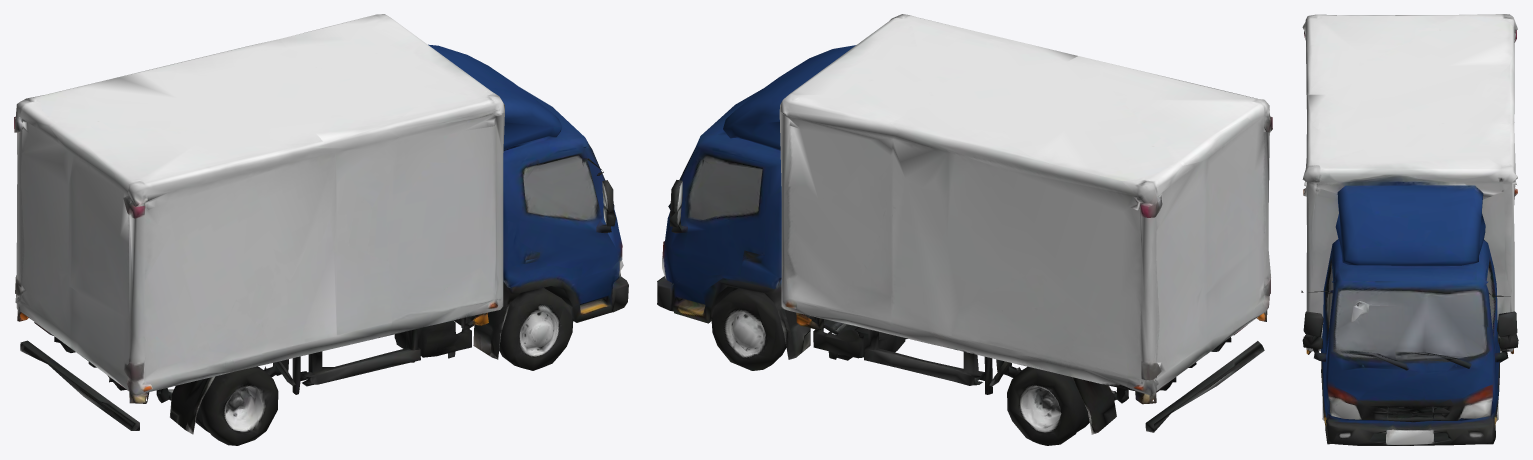
Rendered from box_truck.glb.
3 views of the same model, side by side, from view 1: azimuth 30°, elevation 25°; view 2: azimuth 150°, elevation 25°; view 3: azimuth 270°, elevation 25° (orthographic). The views are drawn at different scales.
Visible parts, largest first — view 1: tripo_node_d6c3605e-c944-4766-90bf-113a9f4cf25a; view 2: tripo_node_d6c3605e-c944-4766-90bf-113a9f4cf25a; view 3: tripo_node_d6c3605e-c944-4766-90bf-113a9f4cf25a.
Boxes of the visible parts, box(x1,y1,x2,y2) form: tripo_node_d6c3605e-c944-4766-90bf-113a9f4cf25a: box(14, 14, 628, 445); tripo_node_d6c3605e-c944-4766-90bf-113a9f4cf25a: box(657, 14, 1272, 445); tripo_node_d6c3605e-c944-4766-90bf-113a9f4cf25a: box(1301, 14, 1518, 445).
Size of the model in its own units: 0.9999 by 0.5385 by 0.4181.
1 material, 1 textured.
